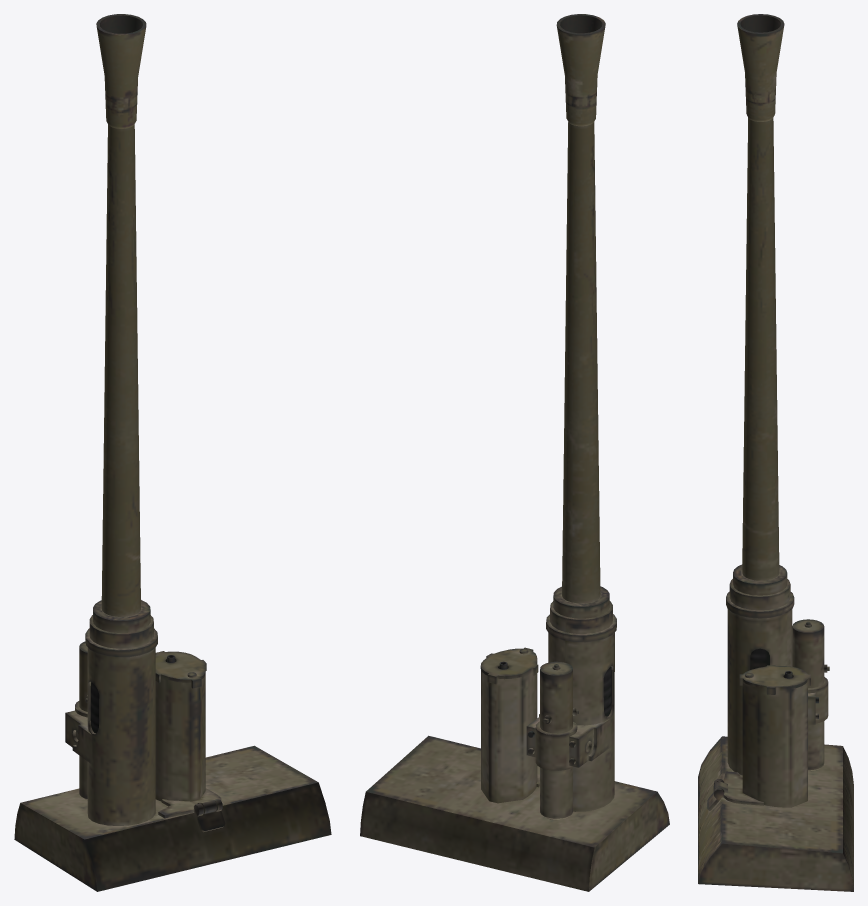
Rendered from Gun_03.glb.
The picture shows the model from 3 angles, left to right: view 1: azimuth 30°, elevation 25°; view 2: azimuth 150°, elevation 25°; view 3: azimuth 270°, elevation 25°; orthographic projection. The views are drawn at different scales.
Parts seen in each view (by area): view 1: set_0_group_0; view 2: set_0_group_0; view 3: set_0_group_0.
Boxes of the visible parts, x1,y1,x2,y2 form: set_0_group_0: (14, 14, 331, 891); set_0_group_0: (360, 14, 669, 891); set_0_group_0: (698, 14, 853, 891).
Bounding box in the file's own units: 0.7148 × 2.44 × 0.4383.
1 material, 1 textured.
